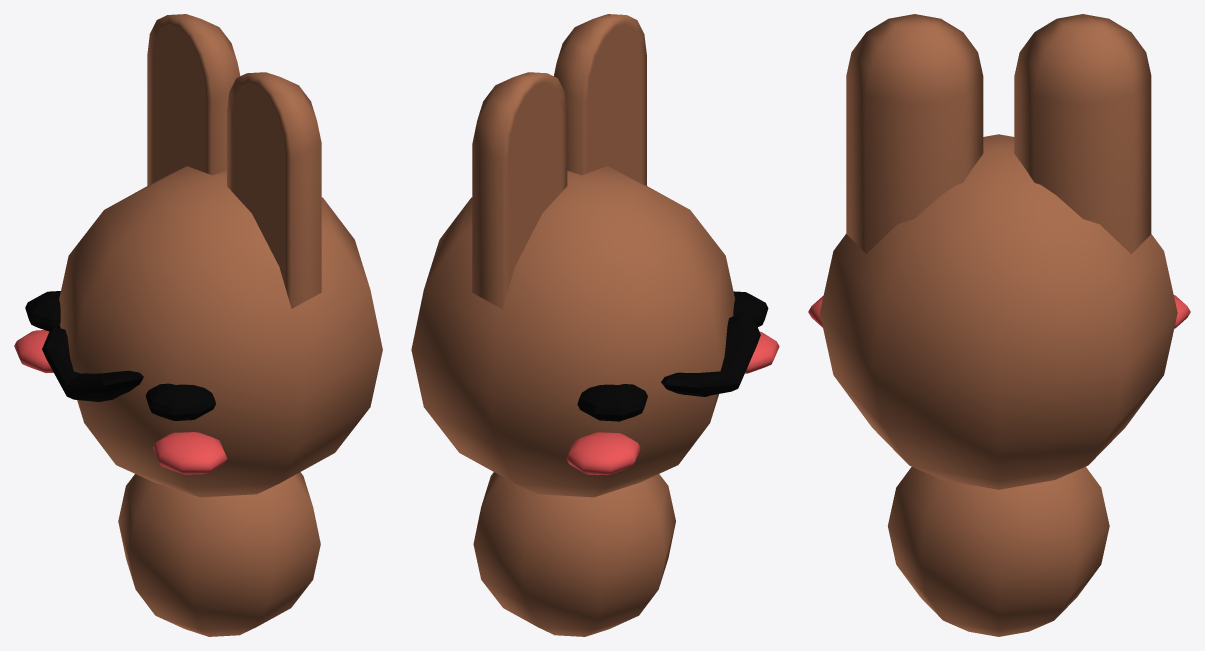
File: CreepyBun_Brown.fbx
3 views of the same model, side by side, from view 1: azimuth 30°, elevation 25°; view 2: azimuth 150°, elevation 25°; view 3: azimuth 270°, elevation 25° (orthographic). The views are drawn at different scales.
Parts seen in each view (by area): view 1: CreepyBun_Brown; view 2: CreepyBun_Brown; view 3: CreepyBun_Brown.
Boxes of the visible parts, bbox=[...] form: CreepyBun_Brown: bbox=[14, 14, 382, 636]; CreepyBun_Brown: bbox=[411, 14, 779, 636]; CreepyBun_Brown: bbox=[808, 14, 1190, 636].
Size of the model in its own units: 106 by 191 by 108.
